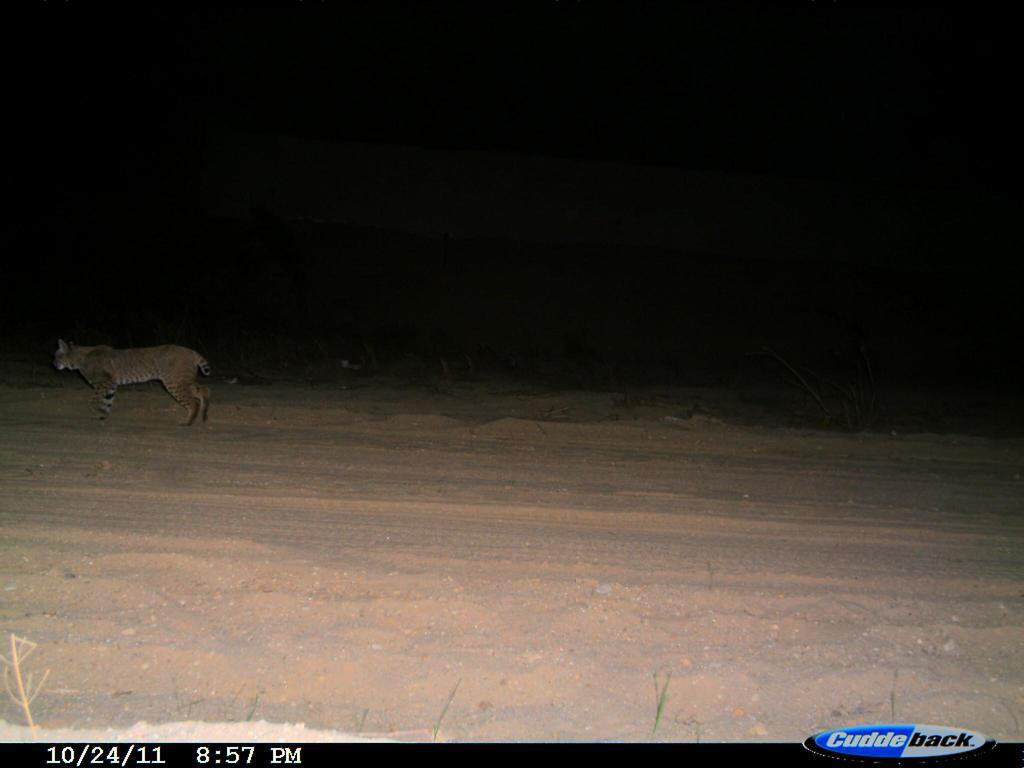bobcat: (48, 324, 219, 438)
